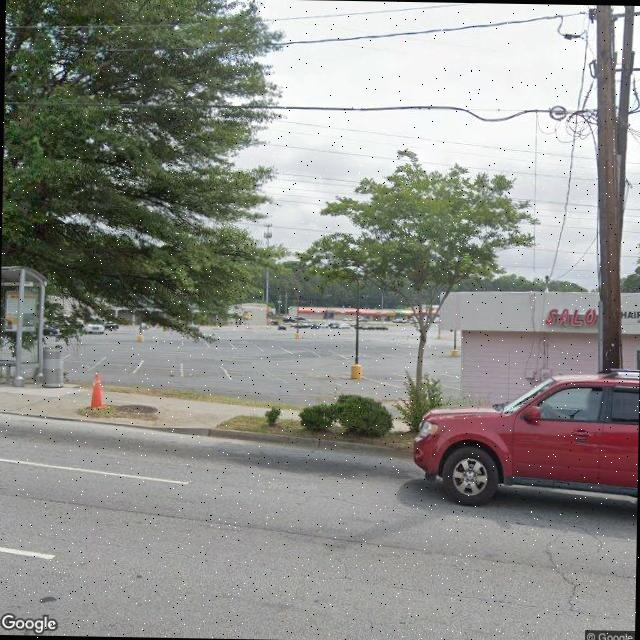seating: (0, 358, 17, 384)
shelter: (0, 265, 48, 392)
trash_can: (42, 346, 64, 387)
